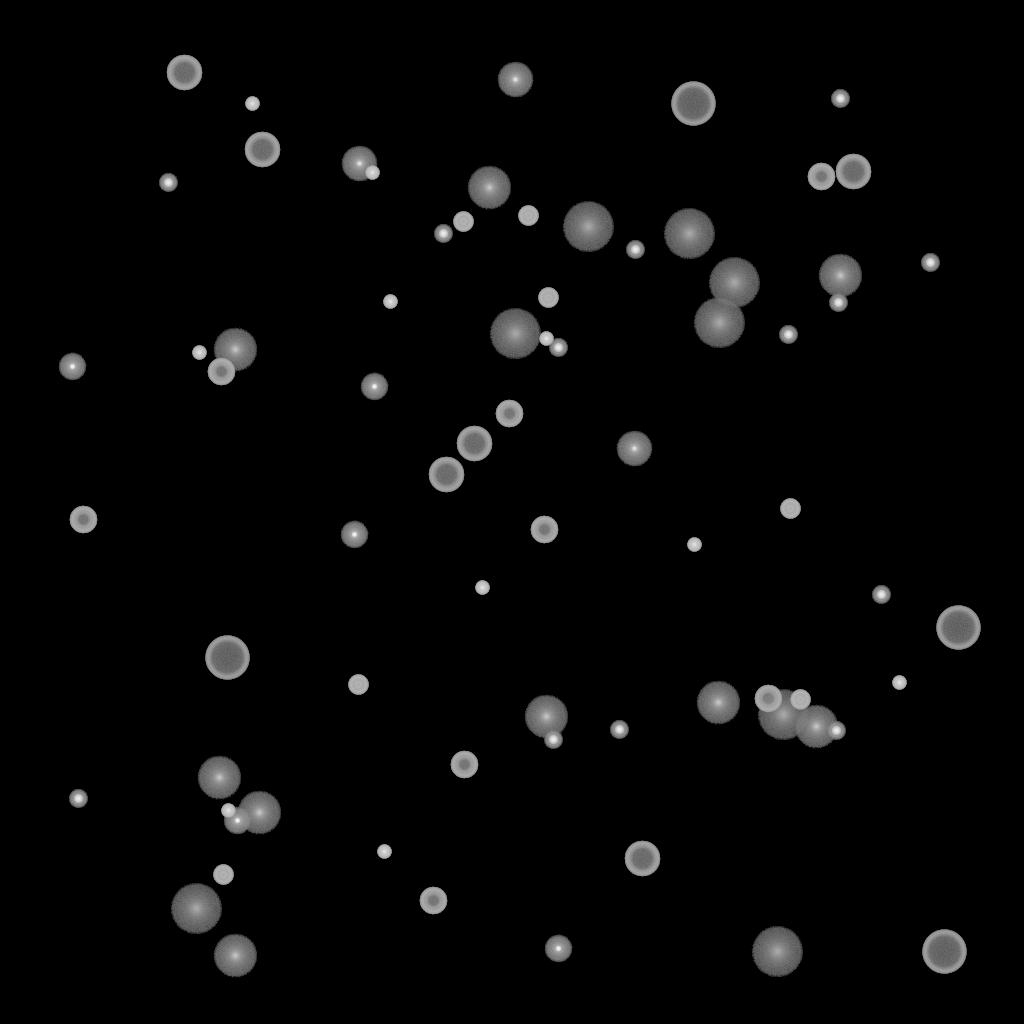depth:-10: (360, 373, 388, 401), (544, 935, 572, 963), (58, 353, 86, 381), (223, 807, 251, 835), (340, 521, 368, 549)
depth:-20: (779, 326, 797, 344), (549, 339, 567, 357), (829, 294, 847, 312), (434, 225, 452, 243), (69, 790, 87, 808), (610, 721, 628, 739), (921, 254, 939, 272), (827, 722, 845, 740), (872, 586, 890, 604), (159, 174, 177, 192), (544, 731, 562, 749), (626, 241, 644, 259), (831, 90, 849, 108)
depth:-30: (221, 804, 235, 818), (365, 166, 379, 180), (245, 97, 259, 111), (475, 581, 489, 595), (192, 346, 206, 360), (687, 538, 701, 552), (892, 676, 906, 690), (383, 295, 397, 309), (539, 332, 553, 346), (377, 845, 391, 859)
depth:-40: (348, 675, 368, 695), (213, 865, 233, 885), (790, 690, 810, 710), (518, 206, 538, 226), (780, 499, 800, 519), (453, 212, 473, 232), (538, 288, 558, 308)
depth:-50: (450, 751, 478, 779), (807, 163, 835, 191), (754, 685, 782, 713), (419, 887, 447, 915), (530, 516, 558, 544), (69, 506, 97, 534), (207, 358, 235, 386), (495, 400, 523, 428)
depth:-60: (244, 132, 280, 168), (835, 154, 871, 190), (166, 55, 202, 91), (456, 426, 492, 462), (624, 841, 660, 877), (428, 457, 464, 493)
depth:-70: (936, 606, 980, 650), (205, 636, 249, 680), (922, 930, 966, 974), (671, 82, 715, 126)
depth:0: (341, 146, 377, 182), (497, 62, 533, 98), (616, 431, 652, 467)
depth:10: (213, 328, 257, 372), (524, 695, 568, 739), (696, 681, 740, 725), (818, 254, 862, 298), (213, 934, 257, 978), (237, 791, 281, 835), (467, 166, 511, 210), (197, 756, 241, 800), (794, 705, 838, 749)
depth:20: (562, 202, 614, 252), (489, 309, 541, 359), (170, 884, 222, 934), (693, 298, 745, 348), (708, 258, 760, 308), (757, 690, 809, 740), (663, 209, 715, 259), (751, 927, 803, 977)
